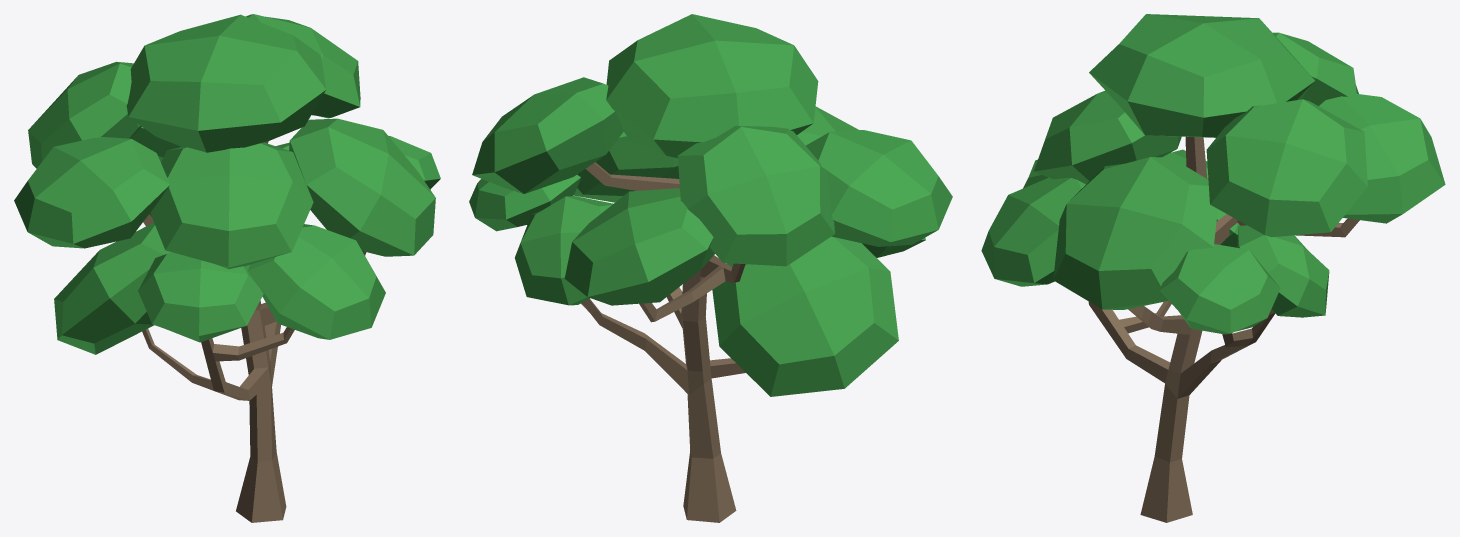
File: tree_a_1.FBX
3 renders of one model, left to right at view 1: azimuth 30°, elevation 25°; view 2: azimuth 150°, elevation 25°; view 3: azimuth 270°, elevation 25°, orthographic. The views are drawn at different scales.
Parts seen in each view (by area): view 1: tree_a_1; view 2: tree_a_1; view 3: tree_a_1.
Part boxes in pixels (<box>): tree_a_1: <box>14,14,440,522</box>; tree_a_1: <box>469,14,952,522</box>; tree_a_1: <box>981,14,1445,522</box>.
Size of the model in its own units: 6.4 by 6.76 by 5.98.
